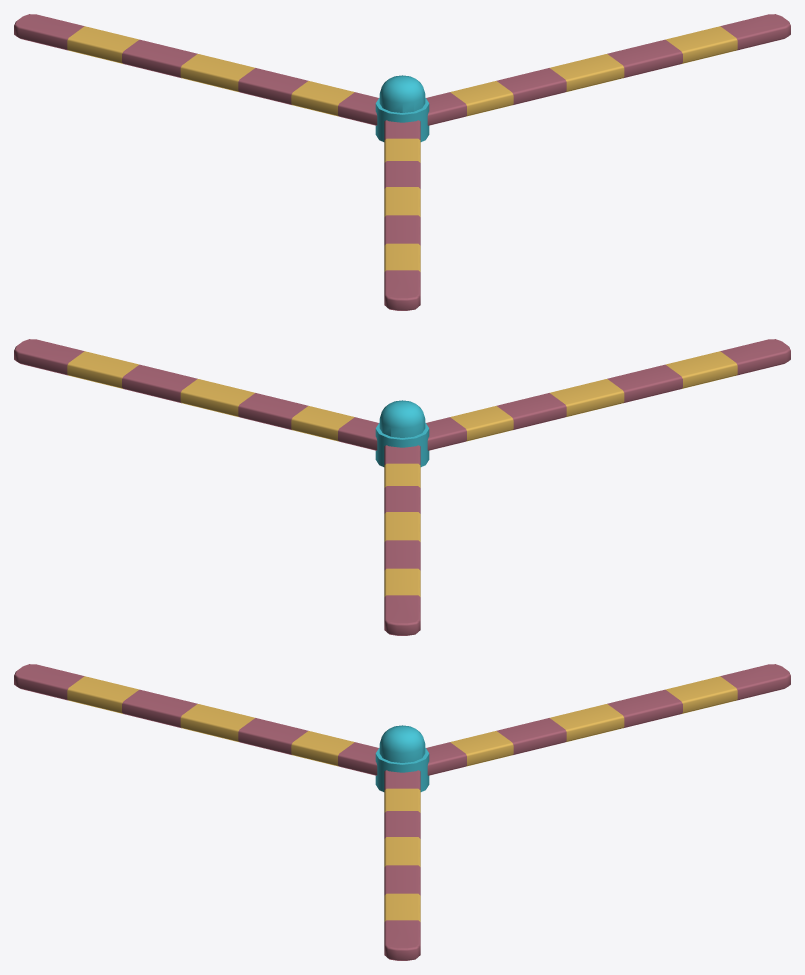
The model's file is Obstacle_03.fbx.
The picture shows the model from 3 angles, top to bottom: view 1: azimuth 30°, elevation 25°; view 2: azimuth 150°, elevation 25°; view 3: azimuth 270°, elevation 25°; orthographic projection.
Visible parts, largest first — view 1: Obstacle_03; view 2: Obstacle_03; view 3: Obstacle_03.
Boxes of the visible parts, bbox=[...] form: Obstacle_03: bbox=[14, 14, 790, 310]; Obstacle_03: bbox=[14, 339, 790, 635]; Obstacle_03: bbox=[14, 664, 790, 960].
Bounding box in the file's own units: 1546 × 511 × 1777.
